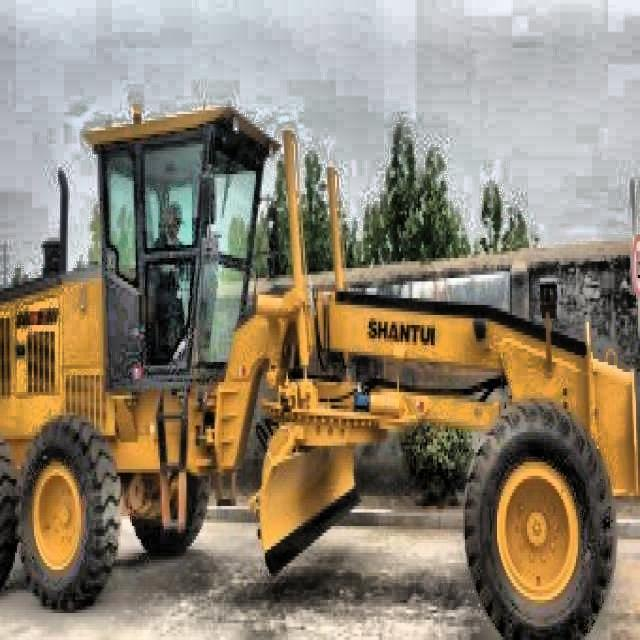bull_dozer/loader/grader: (0, 91, 640, 640)
person: (147, 195, 197, 364)
